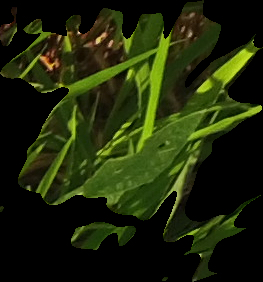grass: (1, 1, 262, 281)
